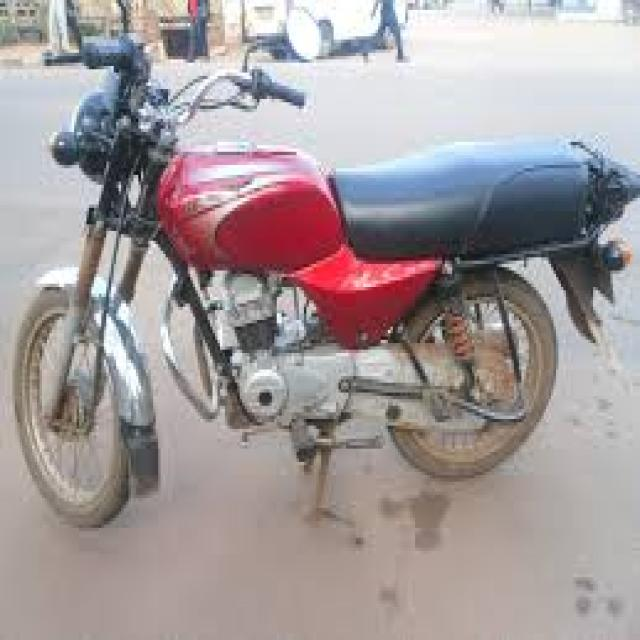bodaboda: (5, 0, 640, 594)
